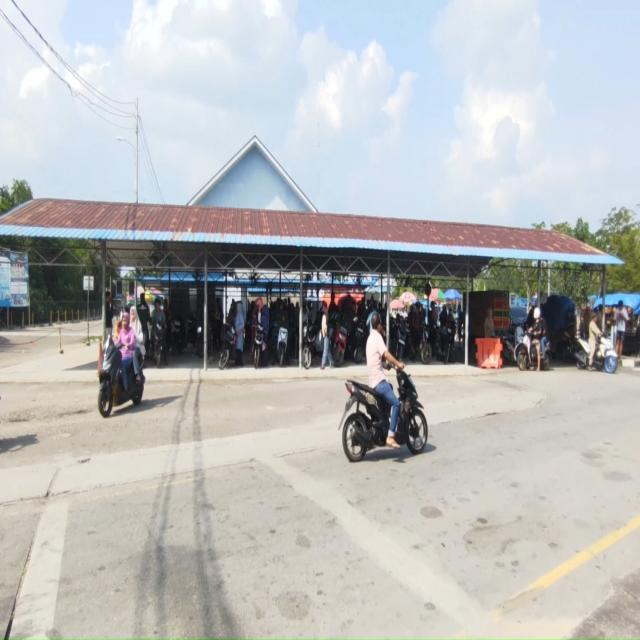Golongan II: (338, 365, 428, 462), (98, 336, 145, 418), (574, 335, 618, 374), (516, 334, 551, 371), (302, 323, 324, 369), (347, 317, 367, 363), (502, 326, 524, 364), (219, 324, 237, 369), (332, 323, 348, 367), (390, 321, 408, 360), (436, 326, 454, 364), (152, 322, 166, 368), (171, 317, 186, 356), (253, 323, 265, 369), (419, 323, 432, 364), (186, 316, 202, 348), (276, 326, 288, 366), (196, 325, 210, 358)
